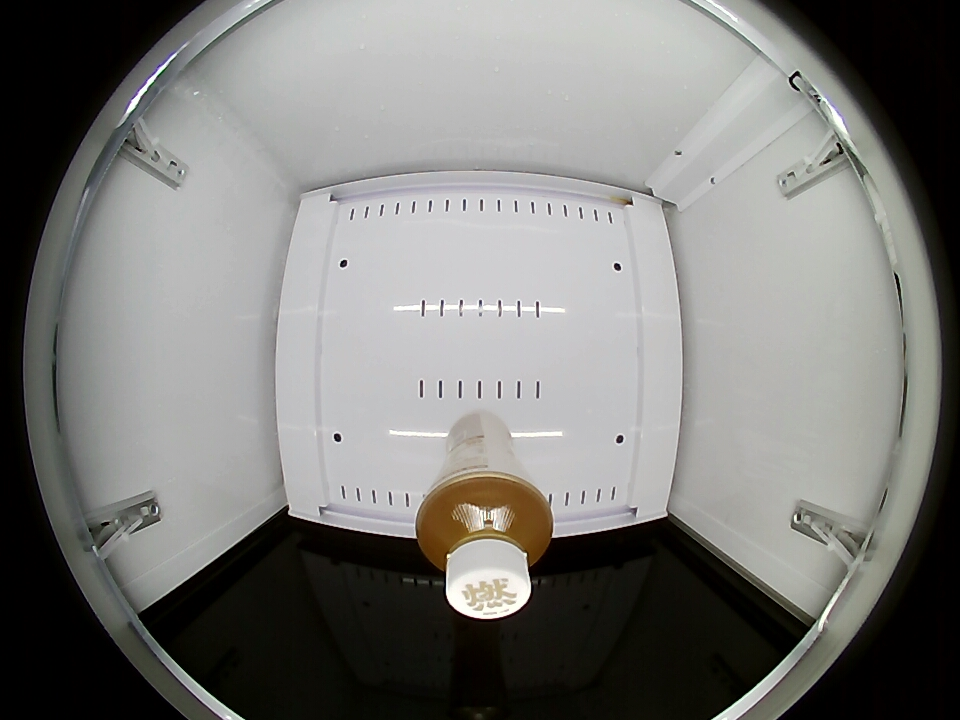rancha-2: (415, 471, 554, 619)
